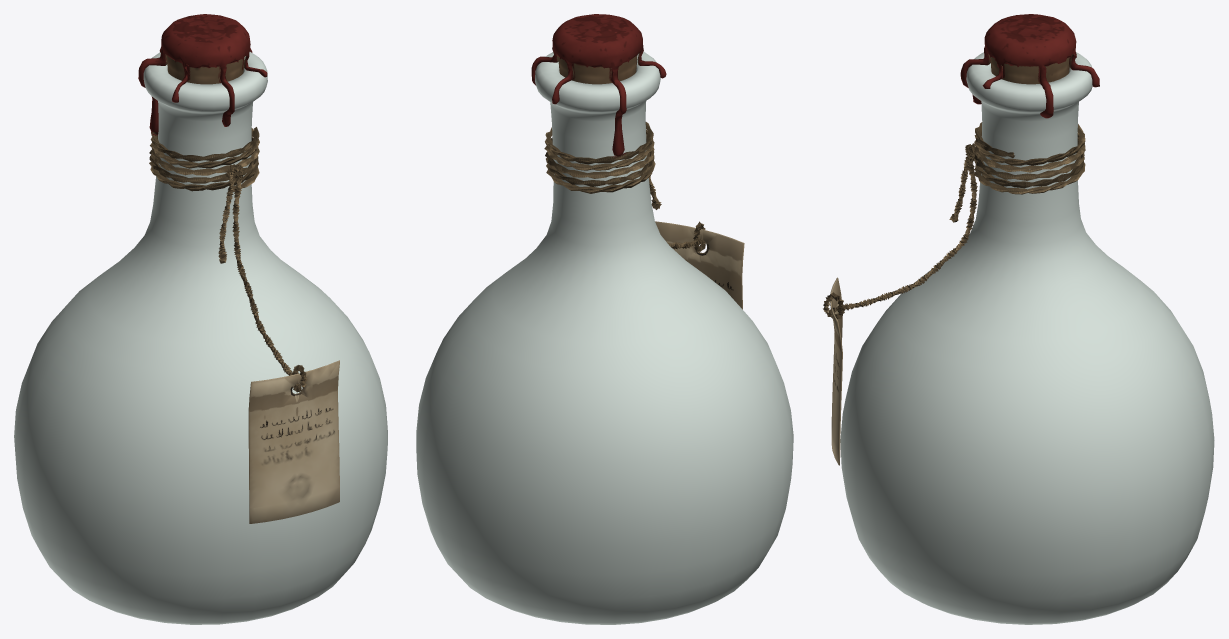
The model's file is SM_Potion.fbx.
3 renders of one model, left to right at view 1: azimuth 30°, elevation 25°; view 2: azimuth 150°, elevation 25°; view 3: azimuth 270°, elevation 25°, orthographic.
Visible parts, largest first — view 1: SM_Potion_Glass, SM_Potion; view 2: SM_Potion_Glass, SM_Potion; view 3: SM_Potion_Glass, SM_Potion.
Part boxes in pixels (x1,y1,x2,y2): SM_Potion_Glass: (14,52,387,624); SM_Potion: (138,14,339,523); SM_Potion_Glass: (416,51,793,624); SM_Potion: (531,14,744,309); SM_Potion_Glass: (840,52,1214,624); SM_Potion: (823,14,1099,465).
Size of the model in its own units: 0.09 by 0.1413 by 0.0925.
2 materials, 1 textured.
